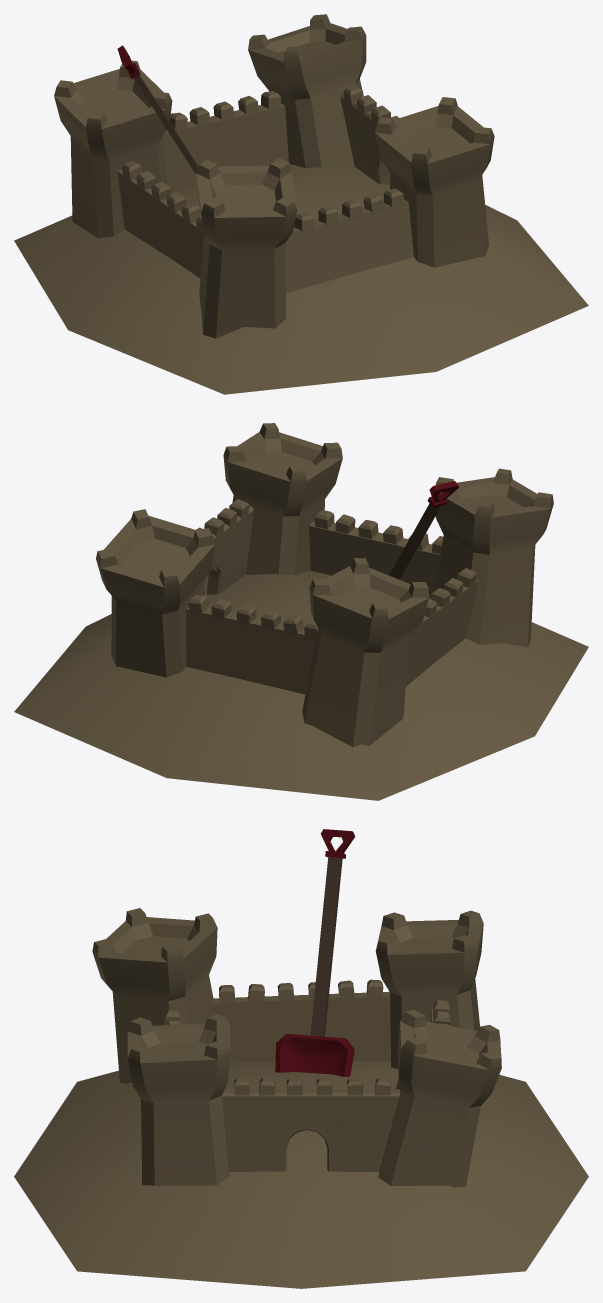
File: SM_SandCastle_02.obj
3 views of the same model, one above another, from view 1: azimuth 30°, elevation 25°; view 2: azimuth 150°, elevation 25°; view 3: azimuth 270°, elevation 25° (orthographic). The views are drawn at different scales.
Visible parts, largest first — view 1: SM_SandCastle:SM_SandCastle1; view 2: SM_SandCastle:SM_SandCastle1; view 3: SM_SandCastle:SM_SandCastle1.
Boxes of the visible parts, box(x1,y1,x2,y2) form: SM_SandCastle:SM_SandCastle1: box(14, 14, 588, 394); SM_SandCastle:SM_SandCastle1: box(14, 423, 588, 800); SM_SandCastle:SM_SandCastle1: box(14, 829, 588, 1288).
Bounding box in the file's own units: 2.29 × 1.25 × 2.39.
